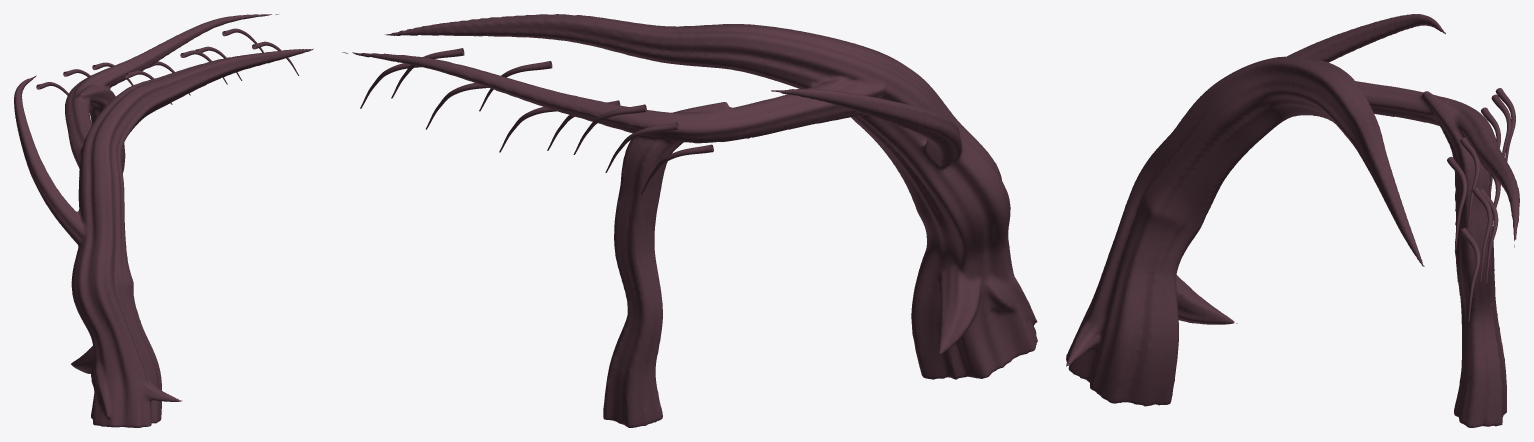
The model's file is tree-bark-input.glb.
3 renders of one model, left to right at view 1: azimuth 30°, elevation 25°; view 2: azimuth 150°, elevation 25°; view 3: azimuth 270°, elevation 25°, orthographic. The views are drawn at different scales.
Parts seen in each view (by area): view 1: Bare tree · roots, knots and fluted trunk; view 2: Bare tree · roots, knots and fluted trunk; view 3: Bare tree · roots, knots and fluted trunk.
Boxes of the visible parts, left/top/right/bottom form: Bare tree · roots, knots and fluted trunk: left=14, top=14, right=313, bottom=427; Bare tree · roots, knots and fluted trunk: left=342, top=14, right=1037, bottom=427; Bare tree · roots, knots and fluted trunk: left=1066, top=14, right=1519, bottom=427.
Bounding box in the file's own units: 7.58 × 5.83 × 6.36.
